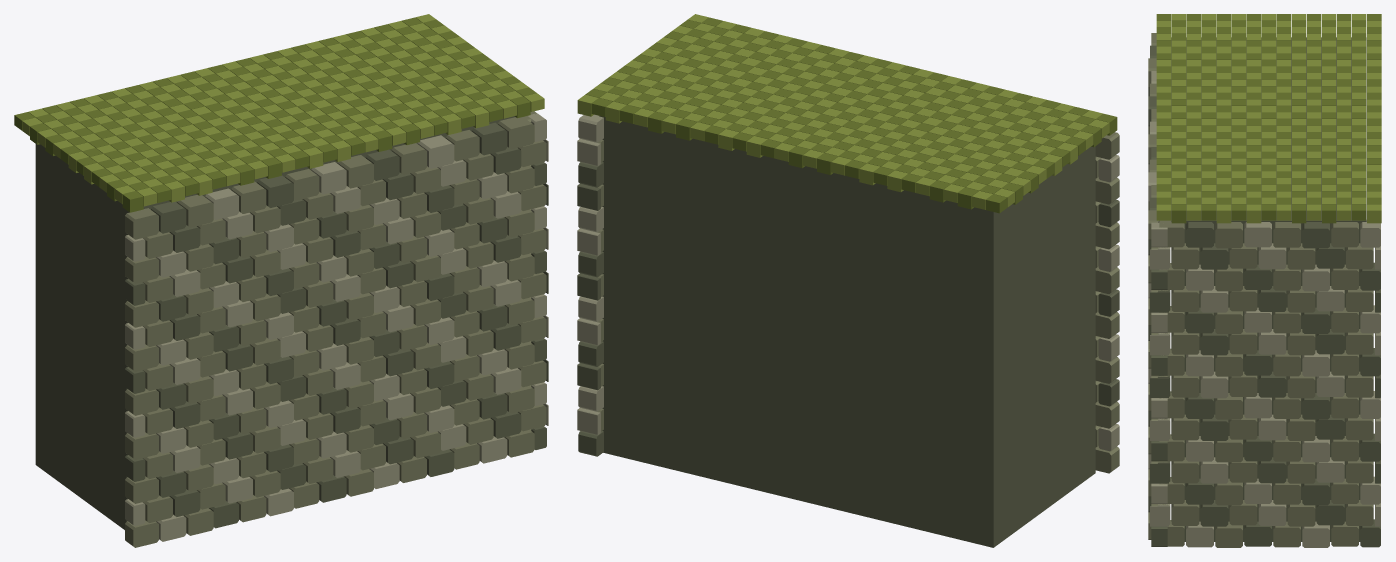
The model's file is SM_DC_Cliff_Third.fbx.
3 views of the same model, side by side, from view 1: azimuth 30°, elevation 25°; view 2: azimuth 150°, elevation 25°; view 3: azimuth 270°, elevation 25° (orthographic). The views are drawn at different scales.
Parts seen in each view (by area): view 1: SM_DC_Cliff_Third; view 2: SM_DC_Cliff_Third; view 3: SM_DC_Cliff_Third.
Part boxes in pixels (<box>): SM_DC_Cliff_Third: <box>14,14,548,547</box>; SM_DC_Cliff_Third: <box>577,14,1119,547</box>; SM_DC_Cliff_Third: <box>1148,14,1381,547</box>.
Size of the model in its own units: 3 by 1.5 by 2.4.
